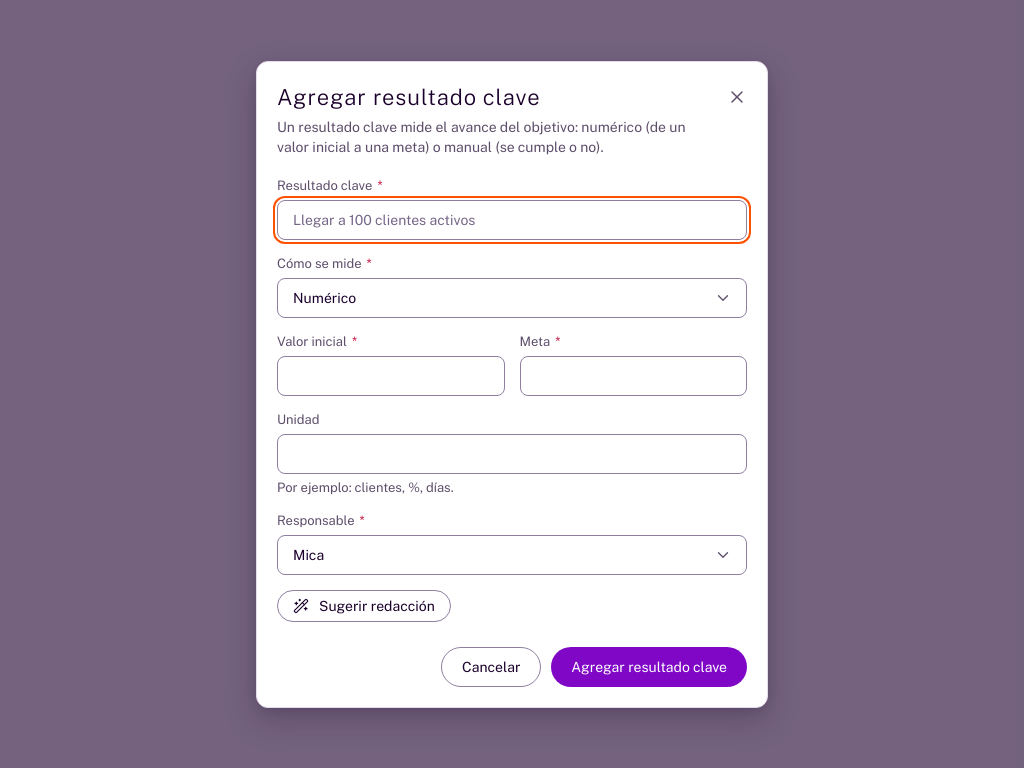
Test: KrFormModal + Sugerir redacción › precarga título, unidad, inicio y meta (es-AR) sin guardar el KR
The width and height of the screenshot is (1024, 768).
Type "bajar tiempo P1" into the field labelled "Resultado clave*" at (512, 220), box x1=277 y1=200 x2=747 y2=240
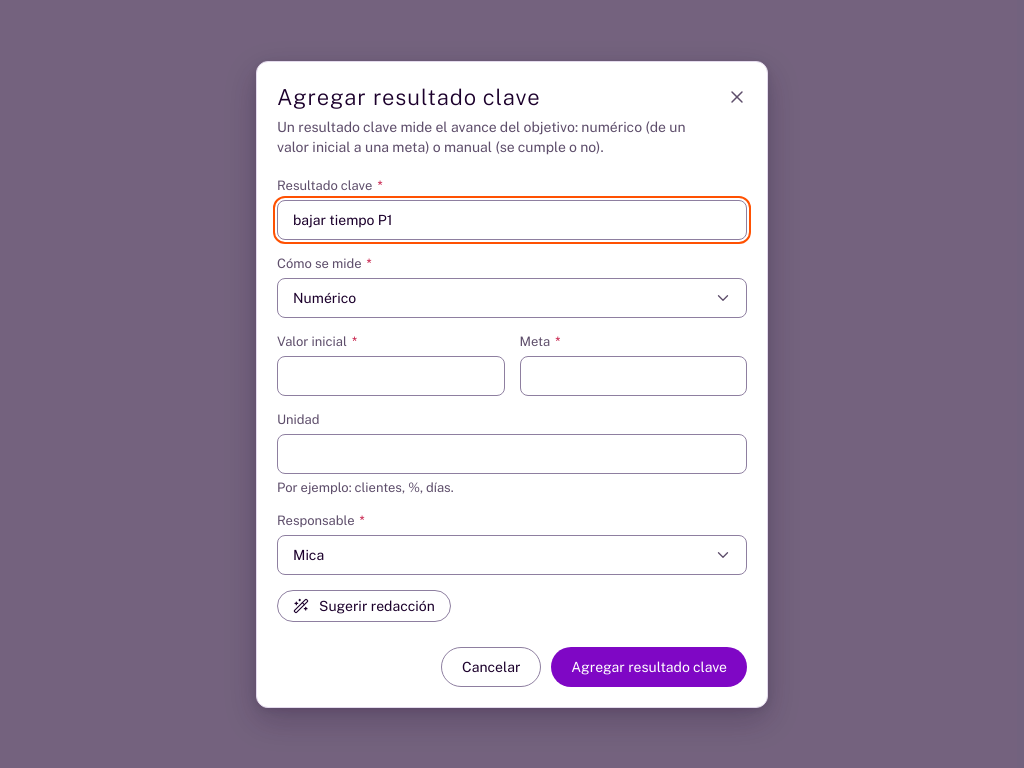
Click the button "Sugerir redacción" at (364, 606), box x1=277 y1=590 x2=451 y2=622
(page scrolled)
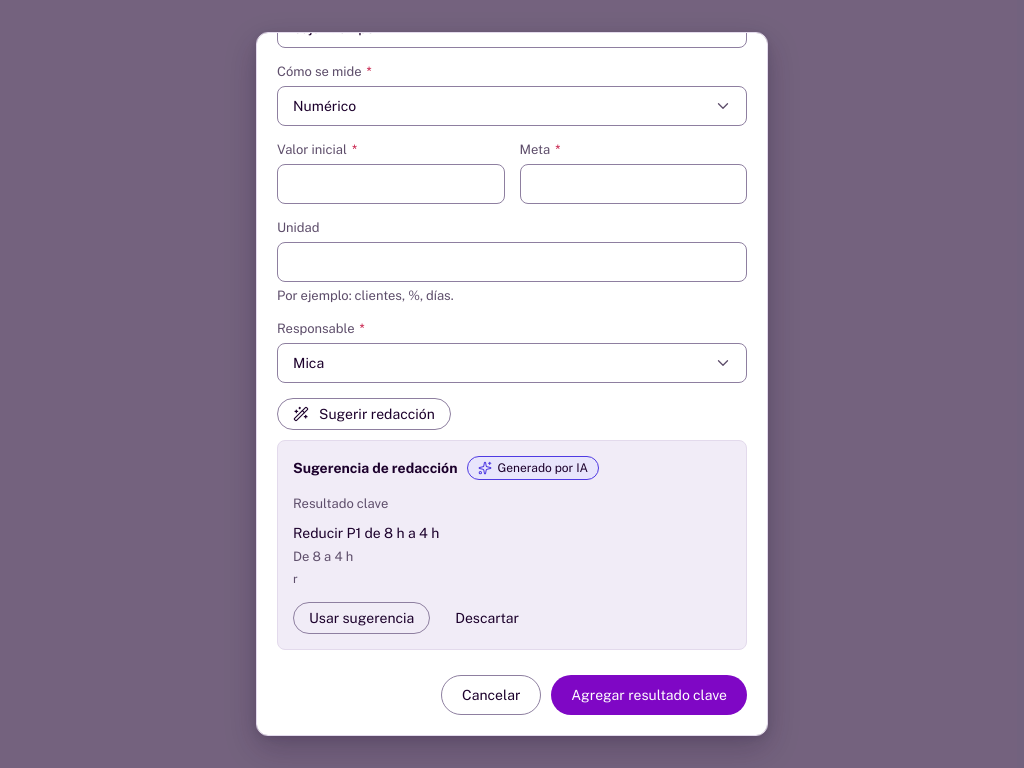
Click the button "Usar sugerencia" at (362, 618), box x1=293 y1=602 x2=430 y2=634
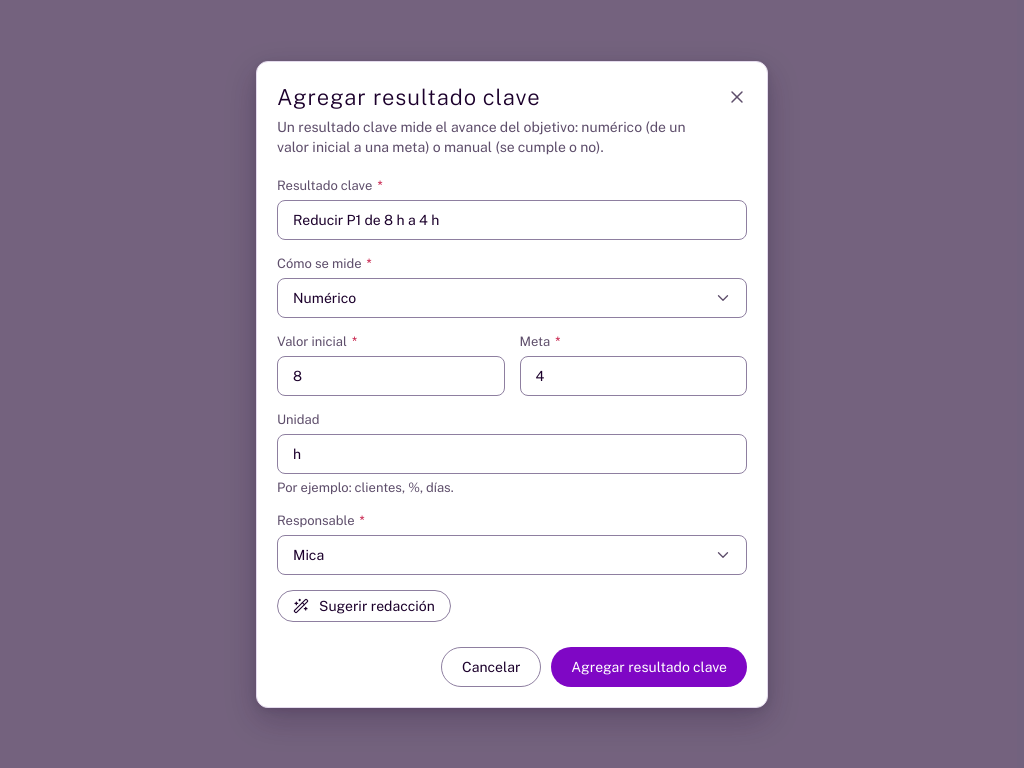
Result: the field labelled "Resultado clave*" holds "Reducir P1 de 8 h a 4 h" at x1=277 y1=200 x2=747 y2=240
Result: the field labelled "Valor inicial*" holds "8" at x1=277 y1=356 x2=504 y2=396
Result: the field labelled "Meta*" holds "4" at x1=520 y1=356 x2=747 y2=396
